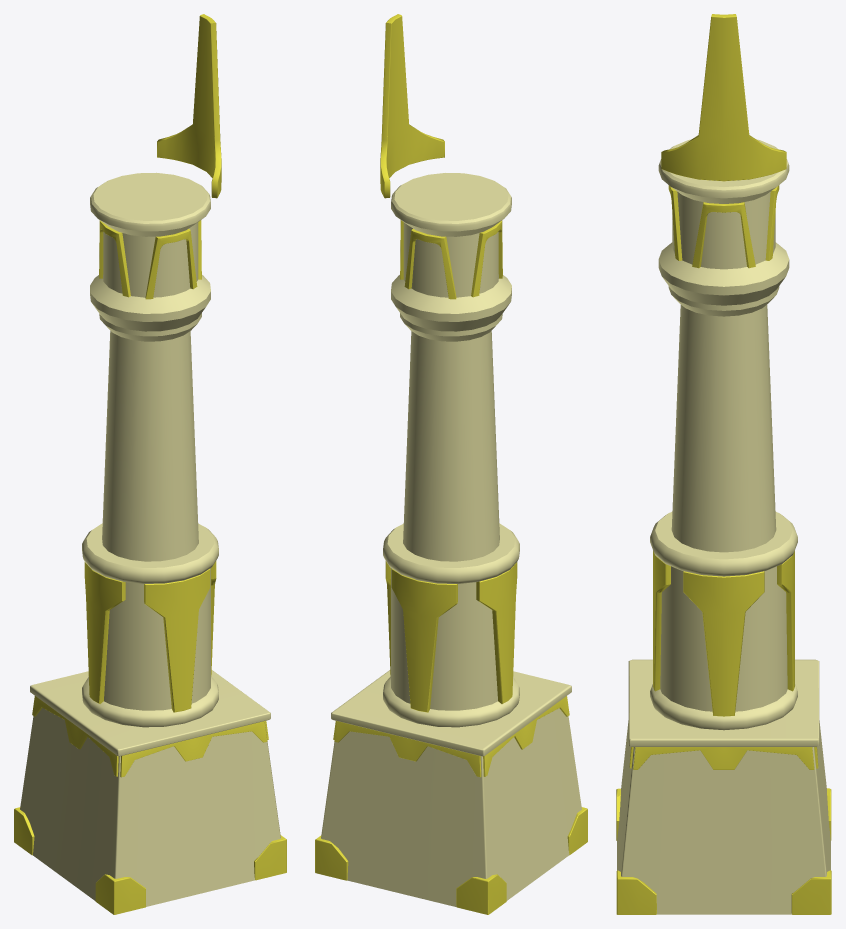
The model's file is M_Column.fbx.
3 renders of one model, left to right at view 1: azimuth 30°, elevation 25°; view 2: azimuth 150°, elevation 25°; view 3: azimuth 270°, elevation 25°, orthographic. The views are drawn at different scales.
Parts seen in each view (by area): view 1: pCylinder71; view 2: pCylinder71; view 3: pCylinder71.
Part boxes in pixels (x1=…): pCylinder71: x1=14, y1=14, x2=286, y2=914; pCylinder71: x1=315, y1=14, x2=587, y2=914; pCylinder71: x1=616, y1=14, x2=831, y2=914.
Size of the model in its own units: 119 by 537 by 119.
